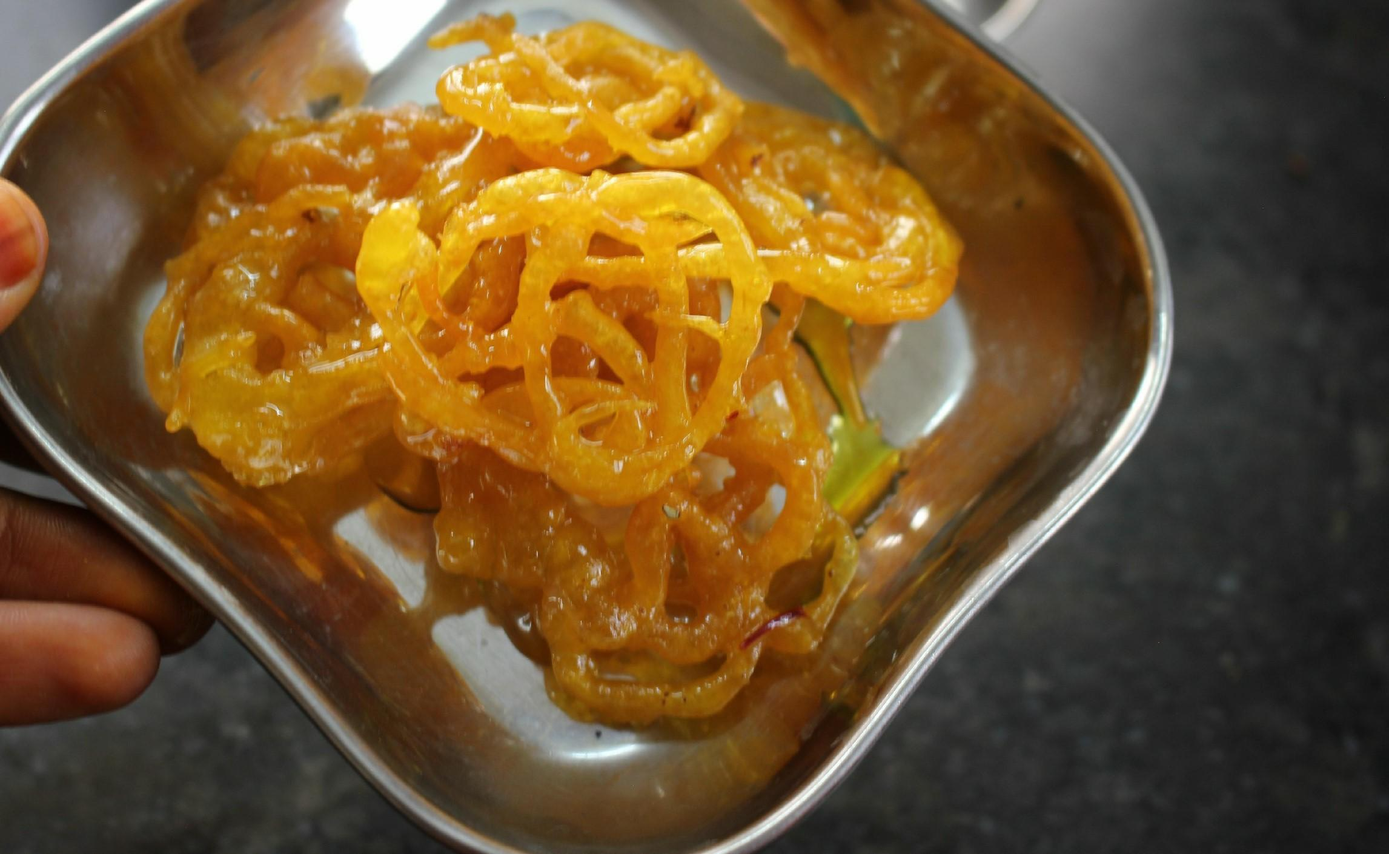Jalebi: (138, 8, 969, 721)
